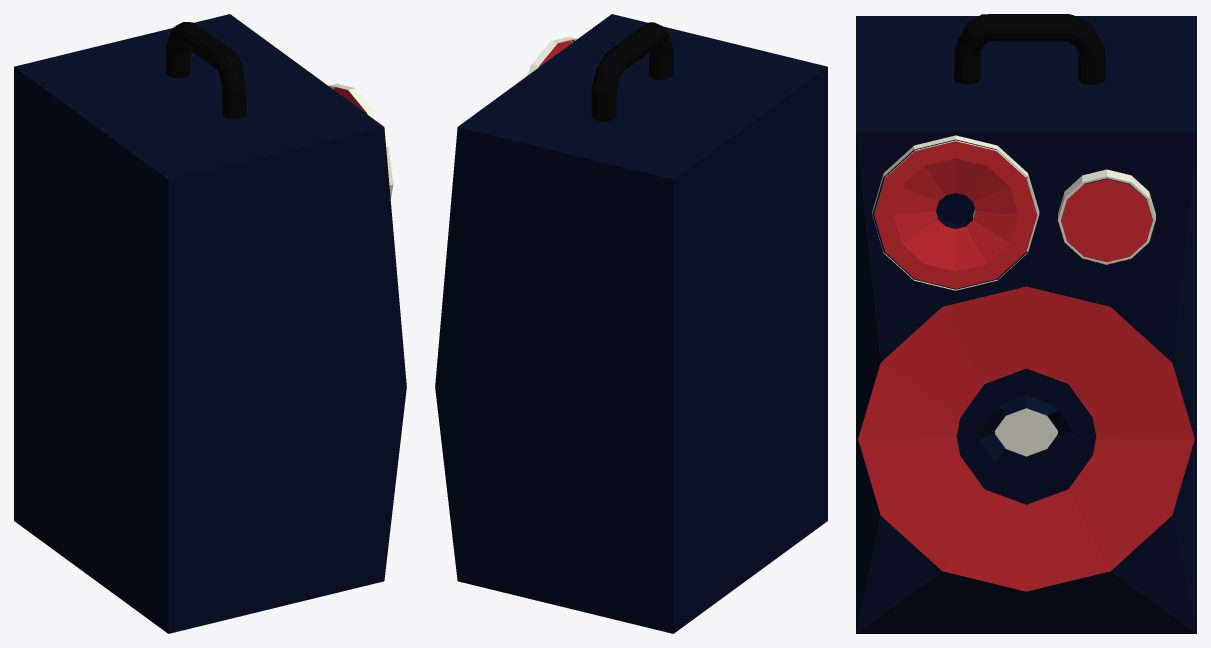
Rendered from caixa_d_som_doidera.fbx.
3 renders of one model, left to right at view 1: azimuth 30°, elevation 25°; view 2: azimuth 150°, elevation 25°; view 3: azimuth 270°, elevation 25°, orthographic. The views are drawn at different scales.
Parts seen in each view (by area): view 1: Cube; view 2: Cube; view 3: Cube.
Boxes of the visible parts, box(x1,y1,x2,y2) form: Cube: box(14, 14, 406, 633); Cube: box(435, 14, 827, 633); Cube: box(856, 14, 1196, 633).
Bounding box in the file's own units: 121 × 247 × 135.
